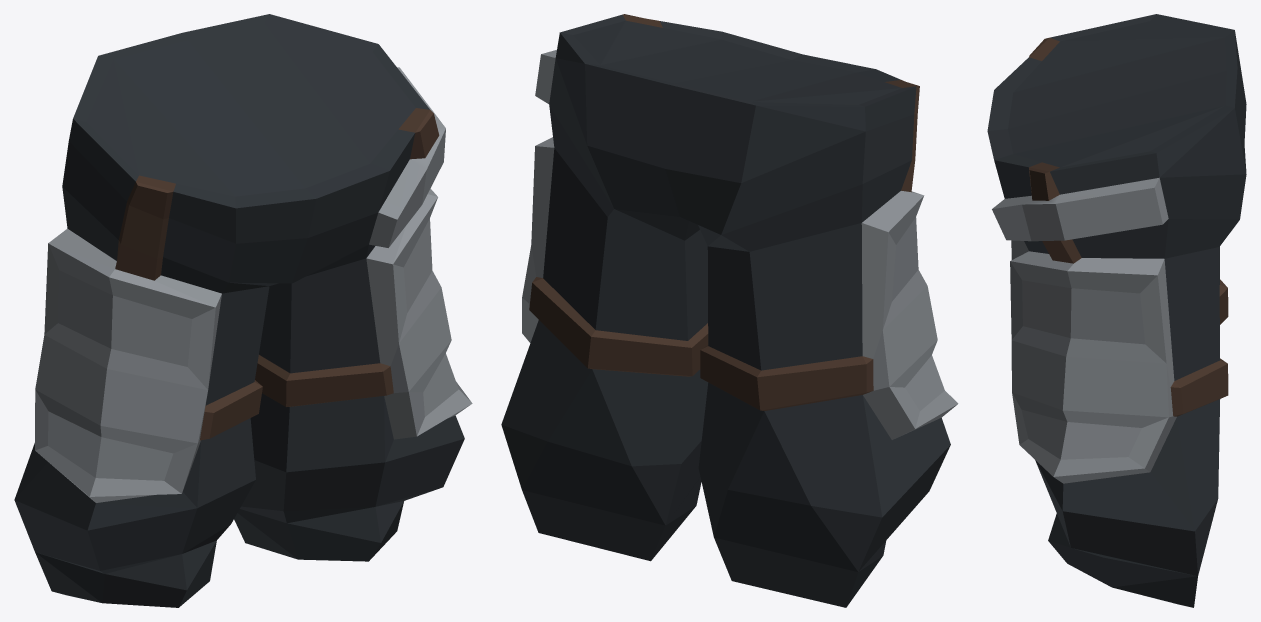
File: Chr_Hips_Male_02_Static.fbx
3 renders of one model, left to right at view 1: azimuth 30°, elevation 25°; view 2: azimuth 150°, elevation 25°; view 3: azimuth 270°, elevation 25°, orthographic. The views are drawn at different scales.
Parts seen in each view (by area): view 1: Chr_Hips_Male_02_Static; view 2: Chr_Hips_Male_02_Static; view 3: Chr_Hips_Male_02_Static.
Part boxes in pixels (box(x1,y1,x2,y2)): Chr_Hips_Male_02_Static: box(14, 14, 472, 607); Chr_Hips_Male_02_Static: box(501, 14, 958, 607); Chr_Hips_Male_02_Static: box(987, 14, 1246, 607).
Bounding box in the file's own units: 0.454 × 0.5545 × 0.2771.
